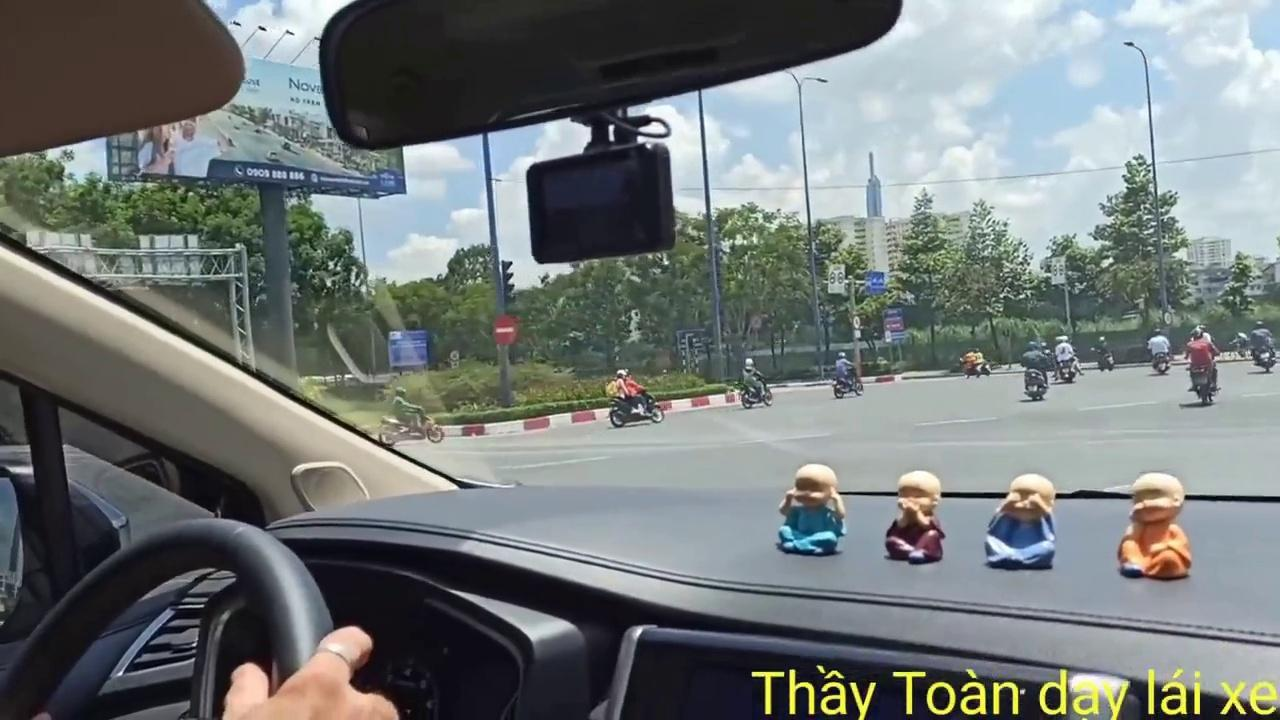Cấm cac phương tiện hoạt động trong khung giờ cố định: (826, 262, 846, 294)
Cấm đi ngược chiều: (490, 313, 522, 347)
Khác: (387, 330, 429, 368), (882, 308, 906, 343)
Làn đường cho từng xe: (863, 270, 886, 296)
